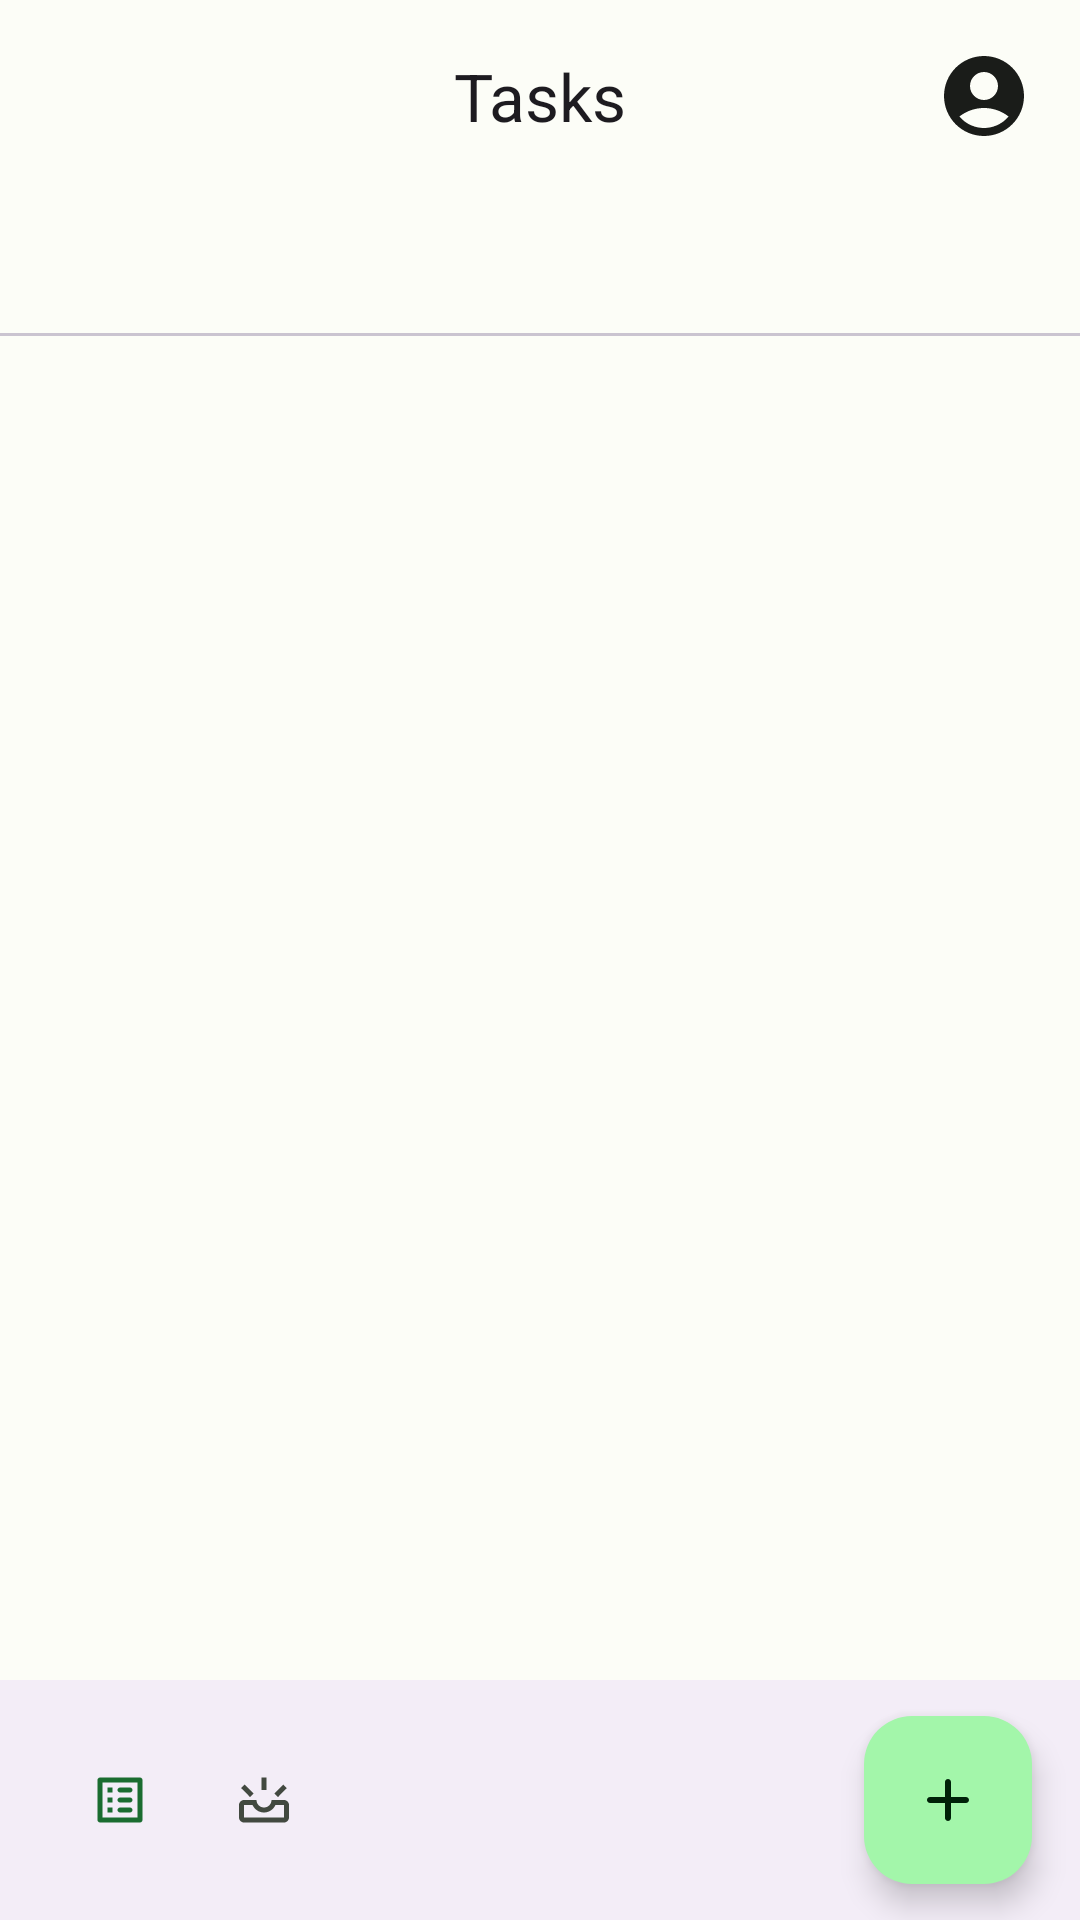

Screen size 1080 x 1920. Icon name, then its box in pixels as box=[x1, y1, x2, y2]:
Add task: box=[864, 1716, 1032, 1884]
Current user: box=[944, 56, 1024, 136]
